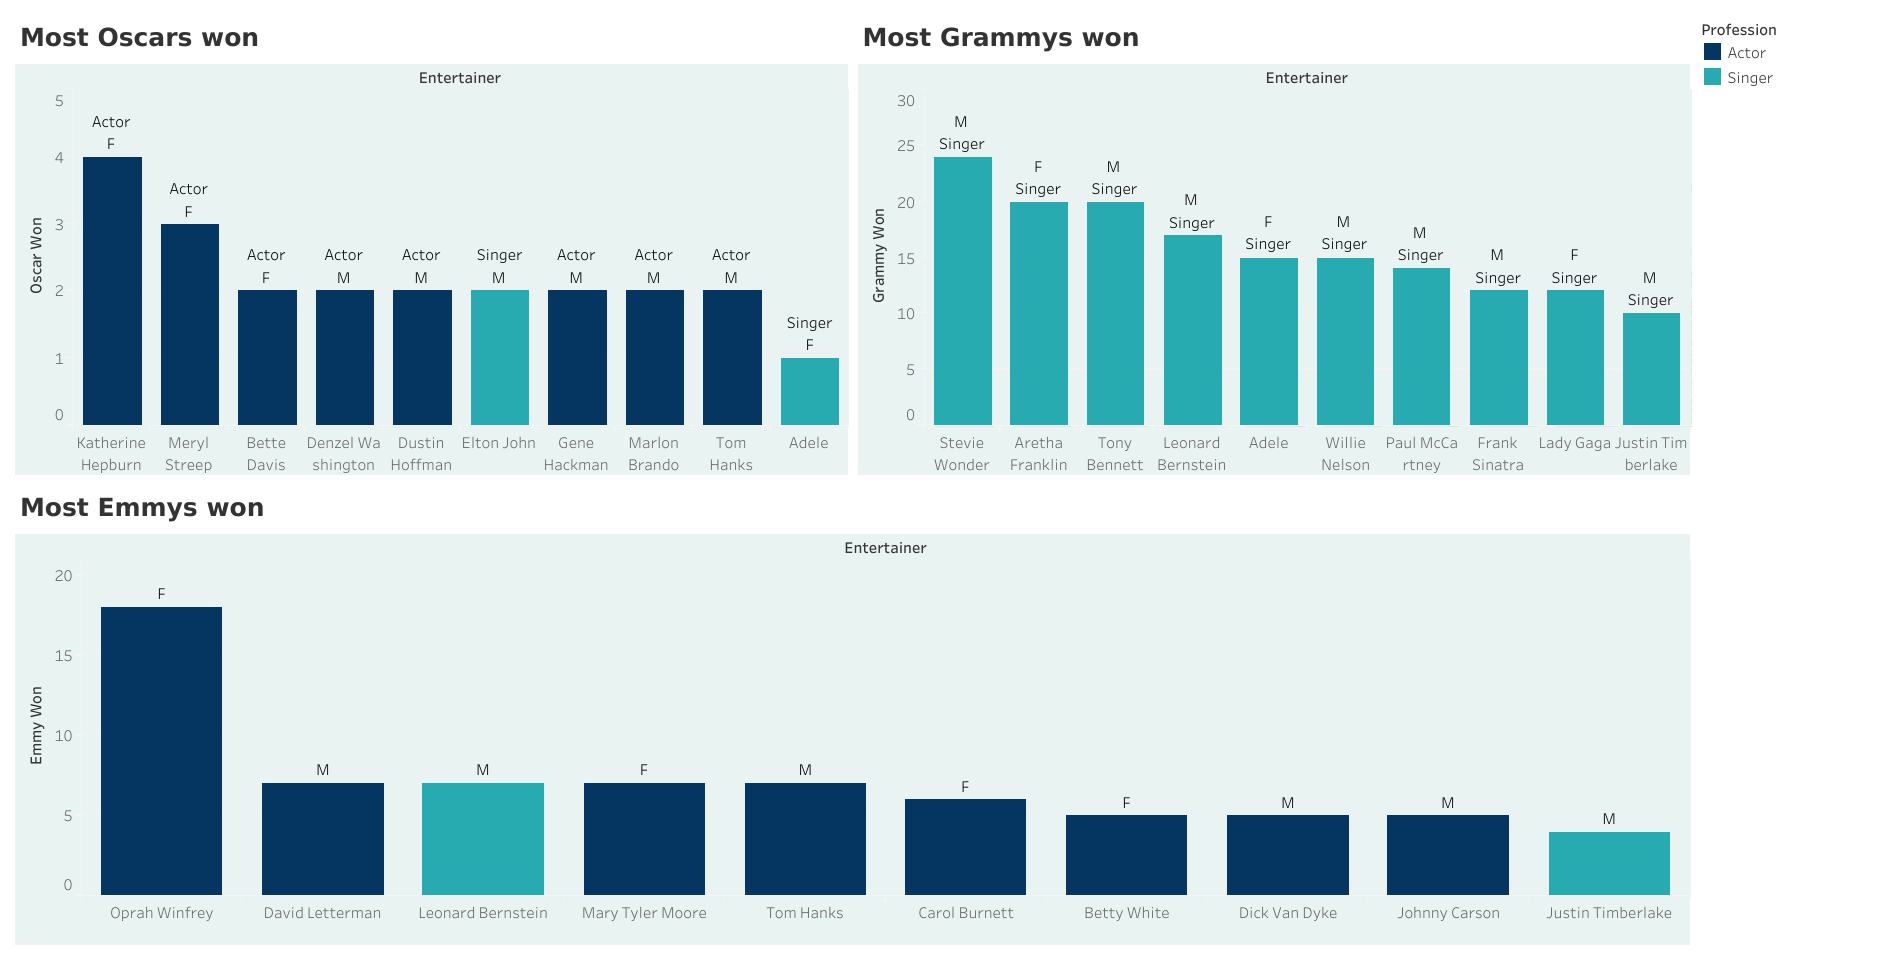

Layout of this report page (visuals, bound fields, positions):
{"tool":"tableau","page":{"name":"Dashboard 2","canvas":[1524,768],"ordinal":1},"visuals":[{"type":"worksheet","title":"Most Oscars won","mark":"Automatic","rows":["Oscar Won"],"cols":["Entertainer"],"box":[8,8,673.9,376]},{"type":"worksheet","title":"Most Grammys won","mark":"Automatic","rows":["Grammy Won"],"cols":["Entertainer"],"box":[681.9,8,674.1,376]},{"type":"legend","title":"Most Oscars won","param":"[federated.00bymi516ipdjf1fy40e70tkaaqx].[none:Profession:nk]","box":[1356,8,160,72]},{"type":"worksheet","title":"Most Emmys won","mark":"Automatic","rows":["Emmy Won"],"cols":["Entertainer"],"box":[8,384,1348,376]}]}

Visuals, with their boxes in screenshot pixels (x1, y1, x2, y2), scaled from the page's 1524x768 canvas onto the 1904x959 screenshot:
"Most Oscars won" worksheet: region(10, 10, 852, 480)
"Most Grammys won" worksheet: region(852, 10, 1694, 480)
"Most Oscars won" legend: region(1694, 10, 1894, 100)
"Most Emmys won" worksheet: region(10, 480, 1694, 949)
